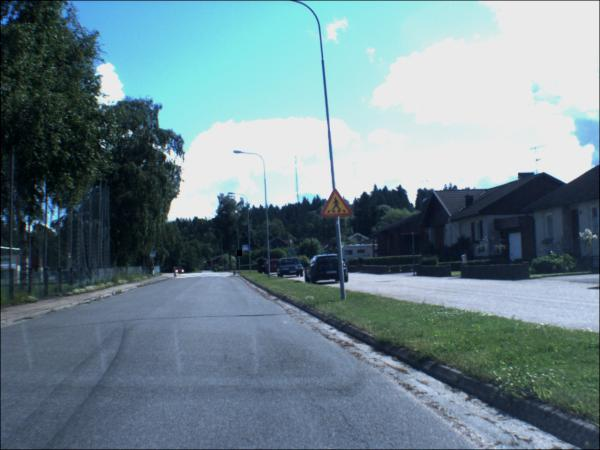NO_PARKING: (238, 251, 244, 258)
PEDESTRIAN_CROSSING: (243, 246, 251, 253), (151, 252, 158, 259)
WARNING: (322, 189, 356, 221)
